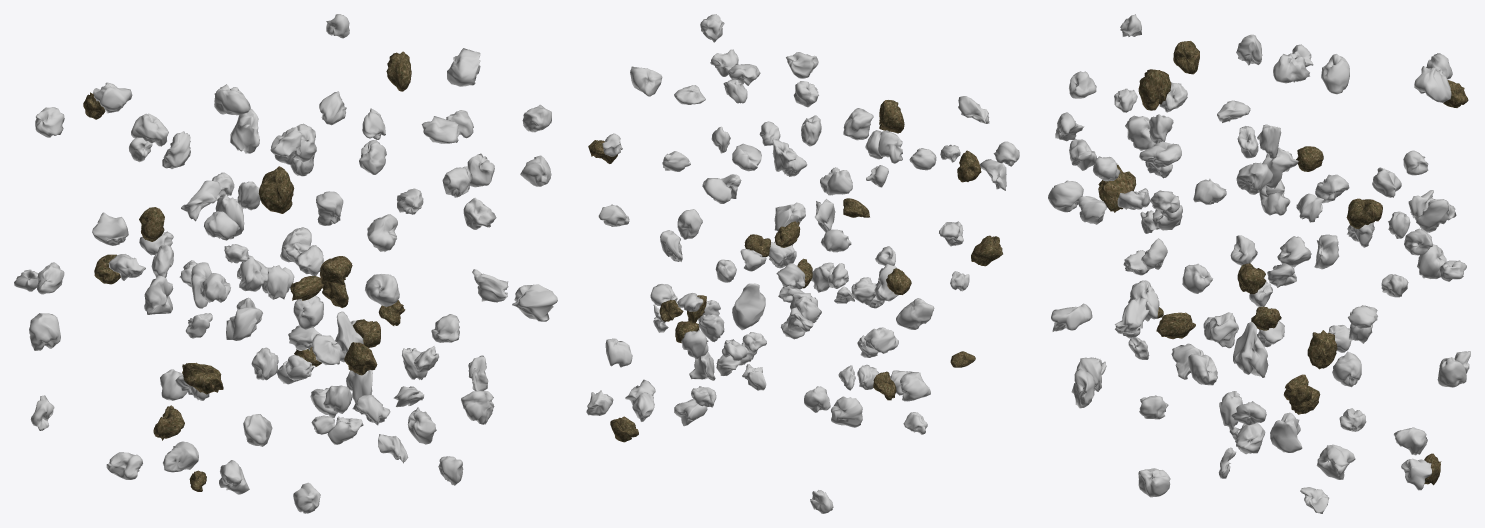
Rendered from asteroid4.fbx.
The picture shows the model from 3 angles, left to right: view 1: azimuth 30°, elevation 25°; view 2: azimuth 150°, elevation 25°; view 3: azimuth 270°, elevation 25°; orthographic projection. The views are drawn at different scales.
Visible parts, largest first — view 1: asteroid_33, asteroid_99, asteroid_38, asteroid_3, asteroid_2, asteroid_39, asteroid_35, asteroid_91, asteroid_87, asteroid_70, asteroid_15, asteroid_56 (+46 smaller); view 2: asteroid_43, asteroid_3, asteroid_68, asteroid_82, asteroid_33, asteroid_38, asteroid_2, asteroid_50, asteroid_98, asteroid_99, asteroid_22, asteroid_45 (+28 smaller); view 3: asteroid_43, asteroid_33, asteroid_92, asteroid_47, asteroid_29, asteroid_2, asteroid_74, asteroid_32, asteroid_38, asteroid_56, asteroid_14, asteroid_87 (+59 smaller).
Boxes of the visible parts, x1,y1,x2,y2 form: asteroid_33: (258, 166, 294, 213); asteroid_99: (512, 284, 557, 321); asteroid_38: (447, 48, 480, 86); asteroid_3: (29, 313, 60, 350); asteroid_2: (182, 362, 223, 394); asteroid_39: (230, 109, 259, 153); asteroid_35: (144, 276, 173, 314); asteroid_91: (226, 307, 262, 340); asteroid_87: (365, 274, 399, 306); asteroid_70: (367, 214, 397, 251); asteroid_15: (92, 212, 128, 245); asteroid_56: (214, 84, 250, 115); asteroid_43: (732, 283, 765, 330); asteroid_3: (831, 396, 862, 427); asteroid_68: (896, 298, 934, 329); asteroid_82: (843, 108, 873, 140); asteroid_33: (879, 100, 904, 133); asteroid_38: (630, 66, 662, 96); asteroid_2: (971, 235, 1002, 266); asteroid_50: (900, 372, 930, 401); asteroid_98: (864, 327, 898, 353); asteroid_99: (732, 143, 761, 171); asteroid_22: (878, 130, 902, 163); asteroid_45: (605, 338, 632, 367); asteroid_43: (1233, 322, 1268, 377); asteroid_33: (1138, 69, 1171, 110); asteroid_92: (1270, 412, 1302, 452); asteroid_47: (1414, 66, 1451, 102); asteroid_29: (1316, 444, 1355, 479); asteroid_2: (1098, 164, 1136, 212); asteroid_74: (1307, 330, 1337, 369); asteroid_32: (1321, 54, 1349, 94); asteroid_38: (1236, 162, 1272, 194); asteroid_56: (1273, 53, 1309, 83); asteroid_14: (1346, 198, 1382, 228); asteroid_87: (1048, 180, 1083, 212).
Size of the model in its own units: 3139 by 3018 by 3126.
